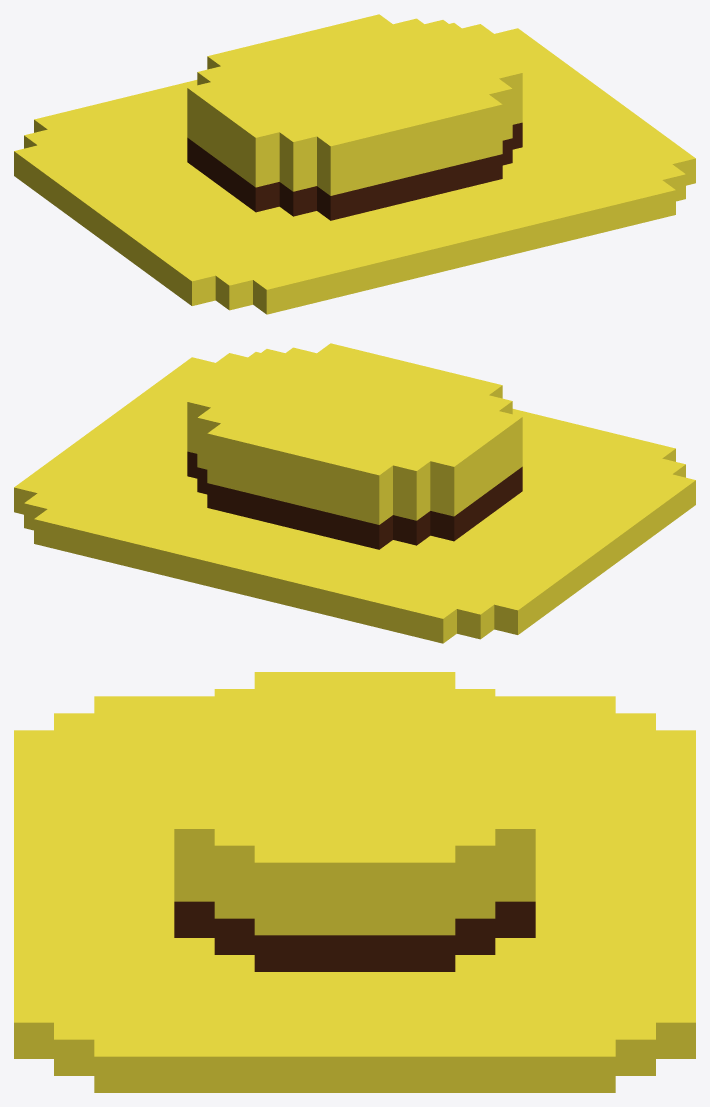
The model's file is TheMask-1-TheMask_Hat.obj.
3 renders of one model, top to bottom at view 1: azimuth 30°, elevation 25°; view 2: azimuth 150°, elevation 25°; view 3: azimuth 270°, elevation 25°, orthographic. The views are drawn at different scales.
Visible parts, largest first — view 1: TheMask_Hat; view 2: TheMask_Hat; view 3: TheMask_Hat.
Part boxes in pixels (bbox=[...]): TheMask_Hat: bbox=[14, 14, 695, 314]; TheMask_Hat: bbox=[14, 343, 695, 643]; TheMask_Hat: bbox=[14, 672, 695, 1092].
Size of the model in its own units: 8.5 by 1.6 by 6.8.
Materials: 1 (1 with a texture image).
